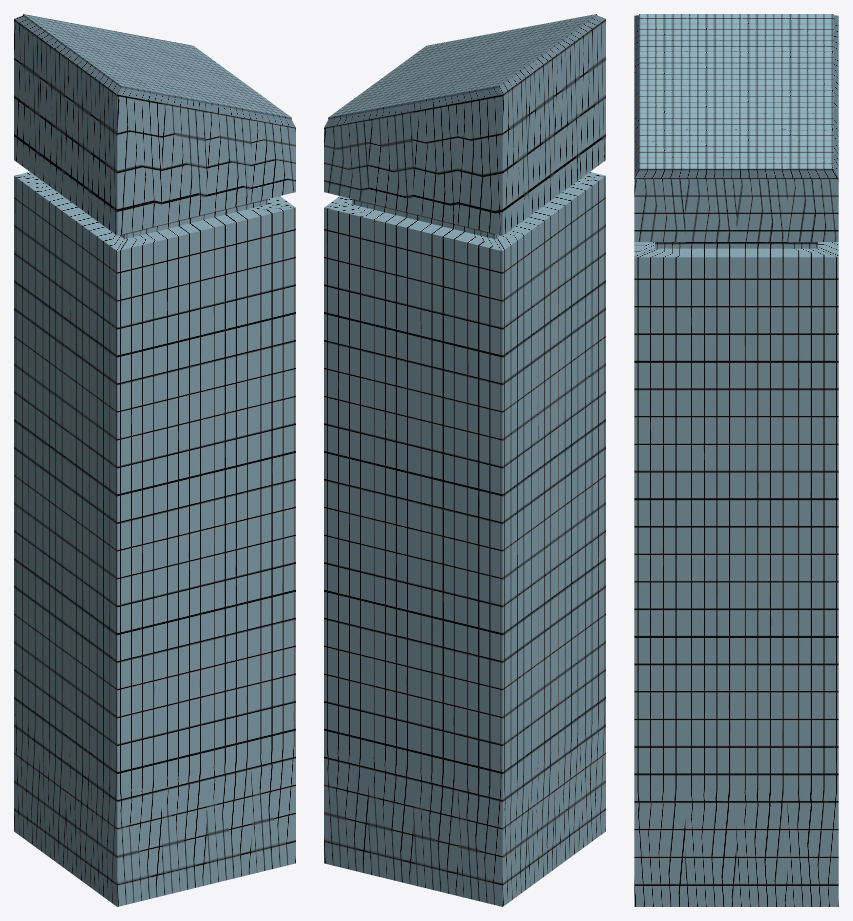
The picture shows the model from 3 angles, left to right: view 1: azimuth 30°, elevation 25°; view 2: azimuth 150°, elevation 25°; view 3: azimuth 270°, elevation 25°; orthographic projection.
Visible parts, largest first — view 1: Highrise_16.003; view 2: Highrise_16.003; view 3: Highrise_16.003.
Part boxes in pixels (bbox=[...]): Highrise_16.003: bbox=[14, 14, 295, 906]; Highrise_16.003: bbox=[324, 14, 605, 906]; Highrise_16.003: bbox=[634, 14, 838, 906].
Bounding box in the file's own units: 2.23 × 9.75 × 2.23.
2 materials, 2 textured.
